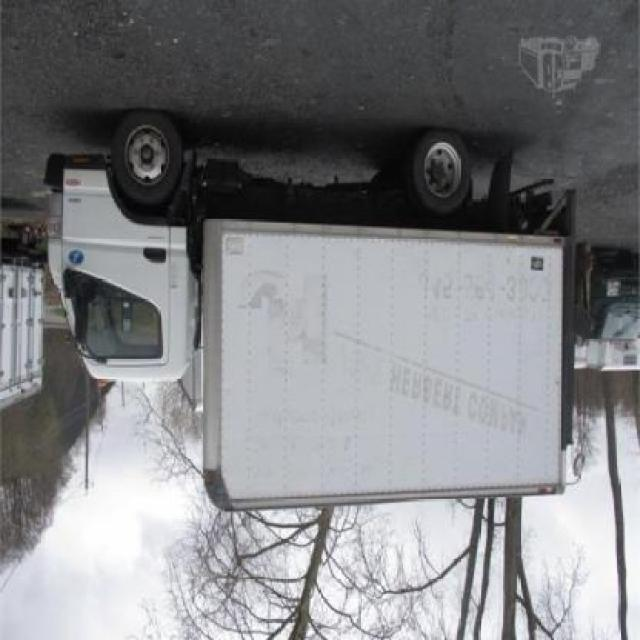truck: (44, 116, 563, 518)
